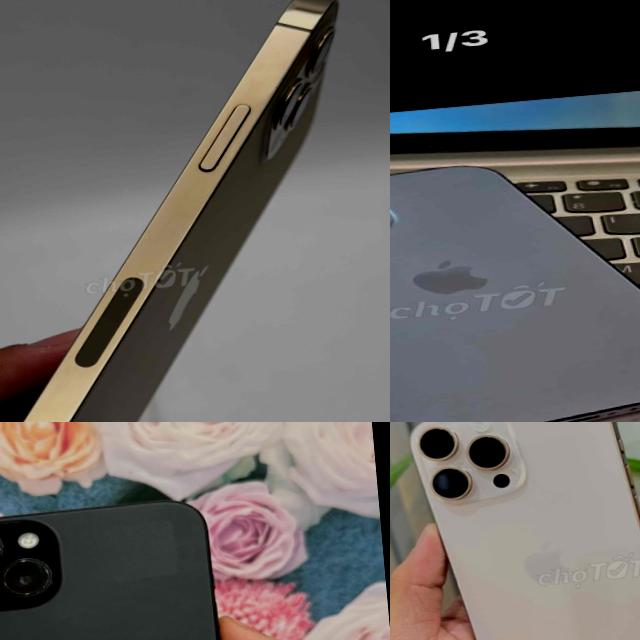gen_12_13: (0, 0, 387, 422), (390, 137, 640, 422)
gen_15: (0, 487, 270, 640)
gen_16: (411, 422, 640, 640)
